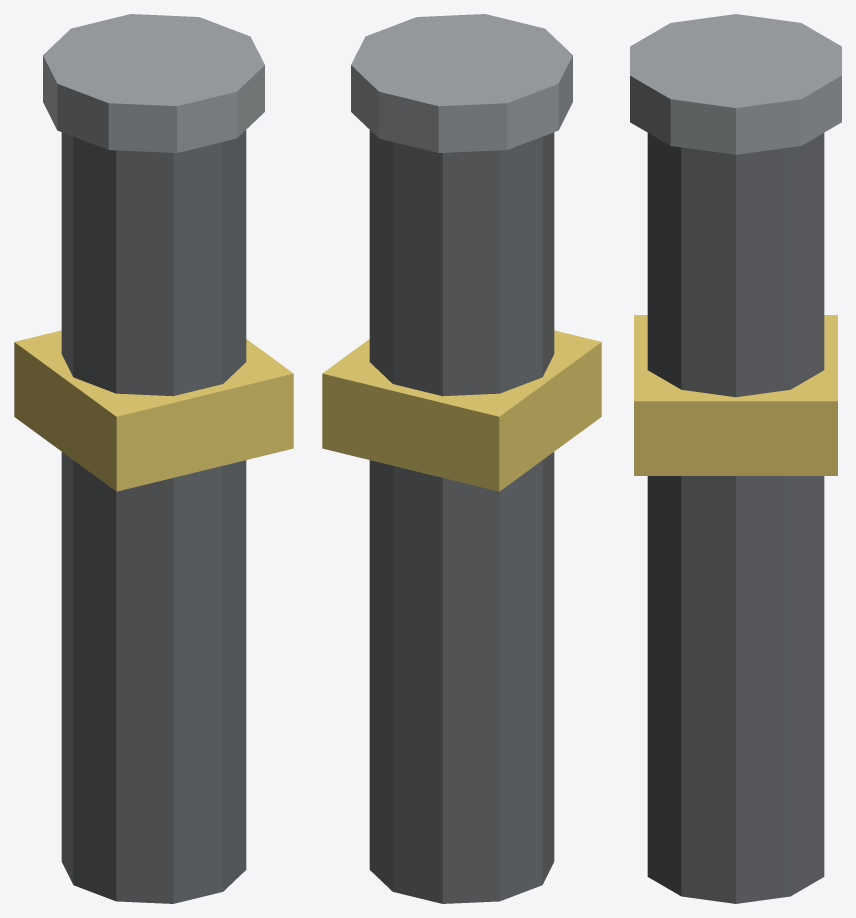
Rendered from bollard_02.glb.
3 views of the same model, side by side, from view 1: azimuth 30°, elevation 25°; view 2: azimuth 150°, elevation 25°; view 3: azimuth 270°, elevation 25° (orthographic).
Visible parts, largest first — view 1: post, cap, stripe; view 2: post, cap, stripe; view 3: post, cap, stripe.
Part boxes in pixels (x1,y1,x2,y2): post: (61,130,246,903); cap: (43,14,264,152); stripe: (14,330,293,491); post: (369,130,554,903); cap: (351,14,572,152); stripe: (322,330,601,491); post: (647,133,824,903); cap: (630,14,841,154); stripe: (634,315,837,475).
Size of the model in its own units: 0.216 by 0.86 by 0.2054.
